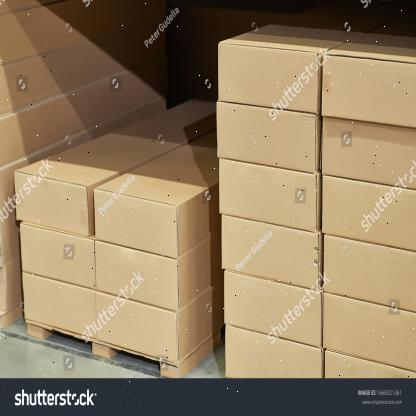box: (217, 41, 319, 116), (221, 212, 319, 290), (224, 270, 322, 348), (323, 291, 416, 373), (219, 158, 317, 233), (322, 51, 416, 128), (322, 174, 416, 251), (324, 235, 414, 313), (218, 100, 314, 173), (321, 118, 415, 190), (94, 188, 178, 260), (94, 240, 178, 312), (96, 292, 178, 364), (19, 223, 97, 290), (21, 272, 97, 340), (14, 171, 89, 238)
